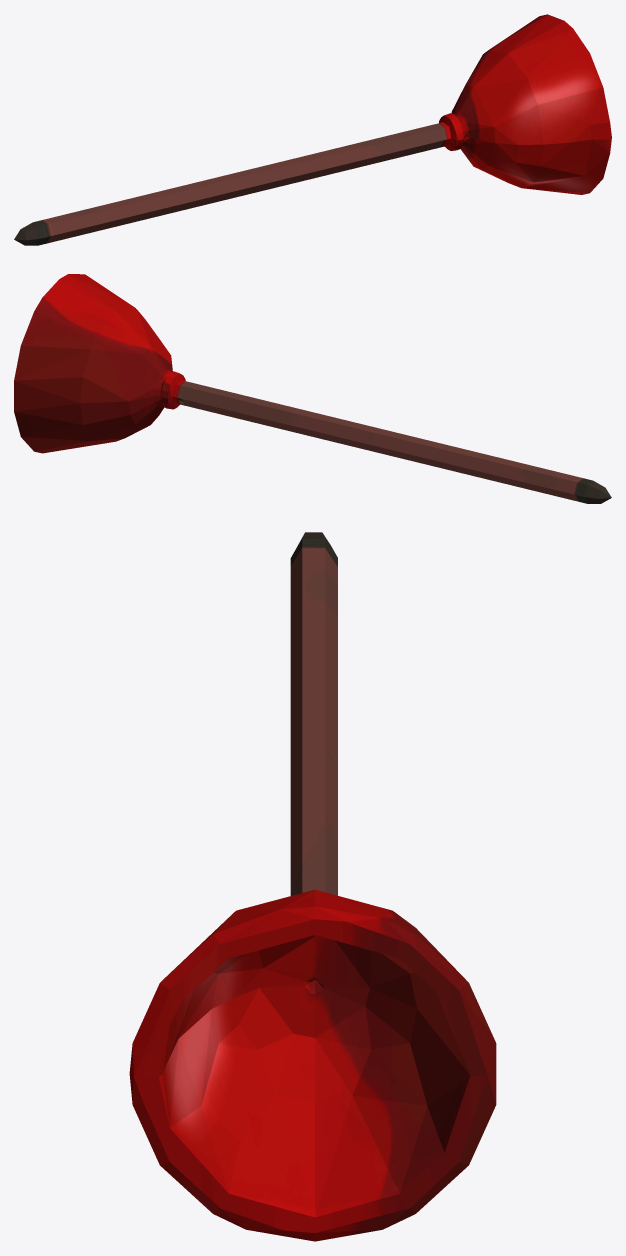
The model's file is Plunger.glb.
3 views of the same model, one above another, from view 1: azimuth 30°, elevation 25°; view 2: azimuth 150°, elevation 25°; view 3: azimuth 270°, elevation 25° (orthographic). The views are drawn at different scales.
Visible parts, largest first — view 1: Plunger; view 2: Plunger; view 3: Plunger.
Boxes of the visible parts, box(x1,y1,x2,y2) form: Plunger: box(14, 14, 611, 245); Plunger: box(14, 274, 611, 503); Plunger: box(129, 532, 496, 1241).
Bounding box in the file's own units: 123 × 35.6 × 35.3.
Materials: 1 (1 with a texture image).
